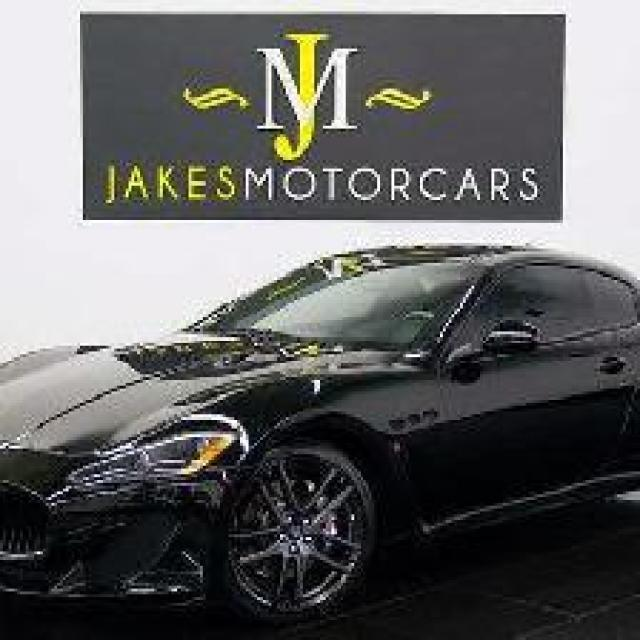damaged: (54, 497, 237, 617)
